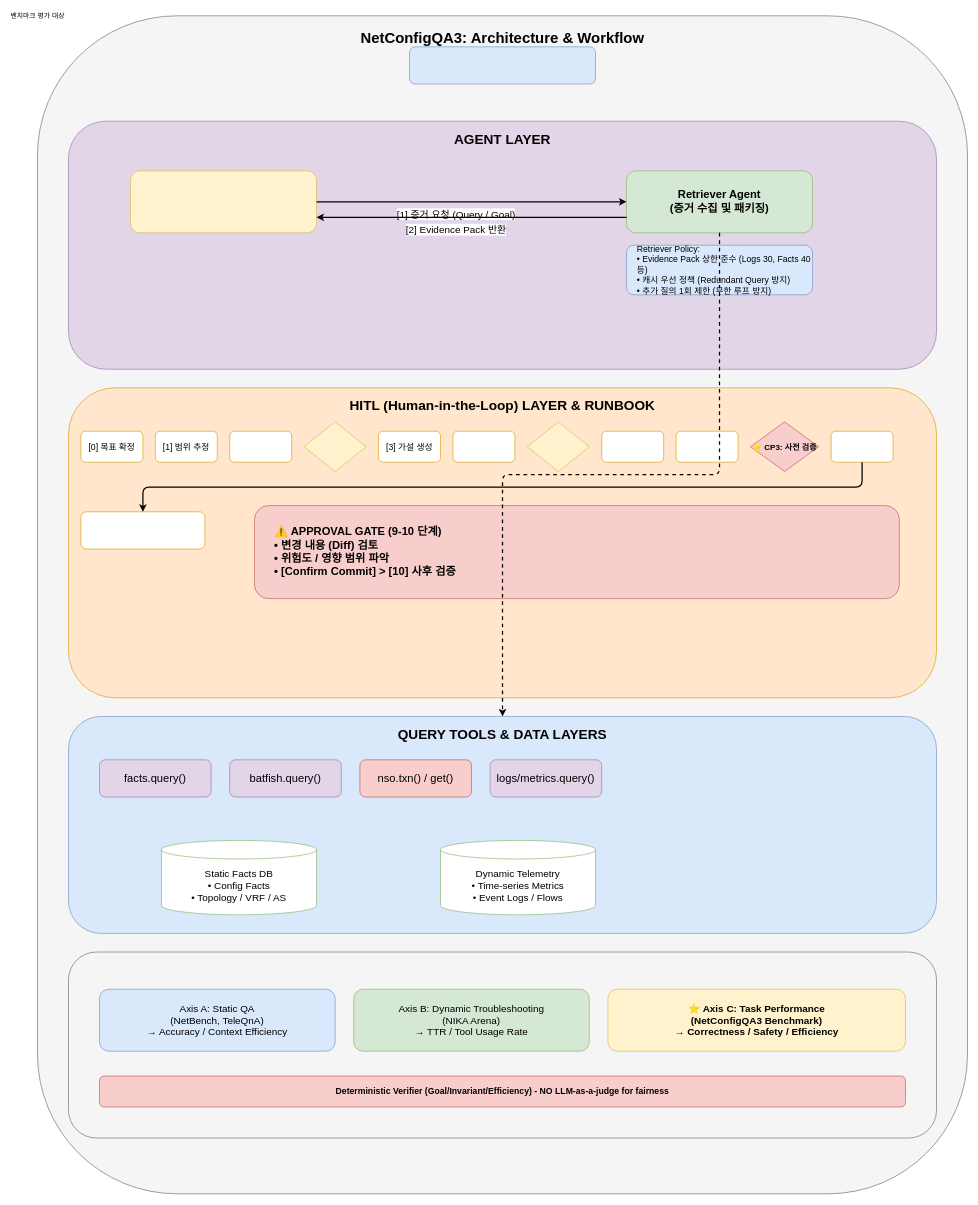
Image size: 978x1205. Some labels were removed from this diagram. The shapes that lost their labels are listed below. From the top down, each one's box as (x1, y1, x2, y2) in pixels, then its label:
(409, 46, 596, 84): 👤 Network Operator
(130, 170, 317, 233): Reasoner Agent (추론 및 판단)
(229, 431, 292, 462): [2] 증거 v1
(303, 421, 366, 472): ✓ CP1: 증거 검토
(452, 431, 515, 462): [4] 증거 v2
(527, 421, 589, 472): ✓ CP2: 가설 검증
(601, 431, 664, 462): [5] 변경안 초안
(675, 431, 738, 462): [6] Dry-run
(830, 431, 893, 462): [7] Batfish Diff
(80, 511, 205, 549): [8] 최종 제안서
(68, 951, 937, 1138): 3-AXIS EXPERIMENTAL FRAMEWORK
